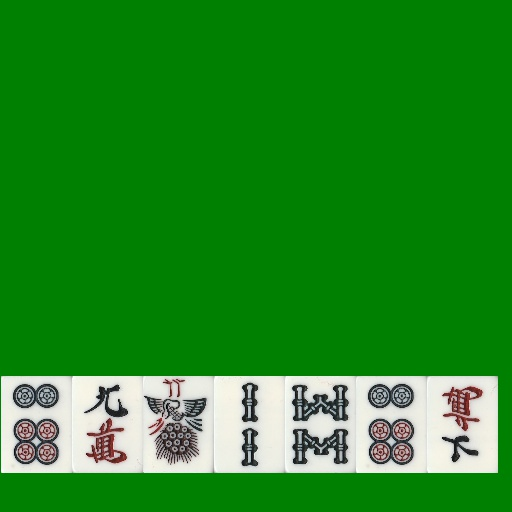1s: (143, 376, 214, 473)
2s: (214, 376, 285, 473)
6p: (1, 376, 72, 473), (356, 376, 427, 473)
7m: (427, 376, 498, 473)
8s: (285, 376, 356, 473)
9m: (72, 376, 143, 473)
